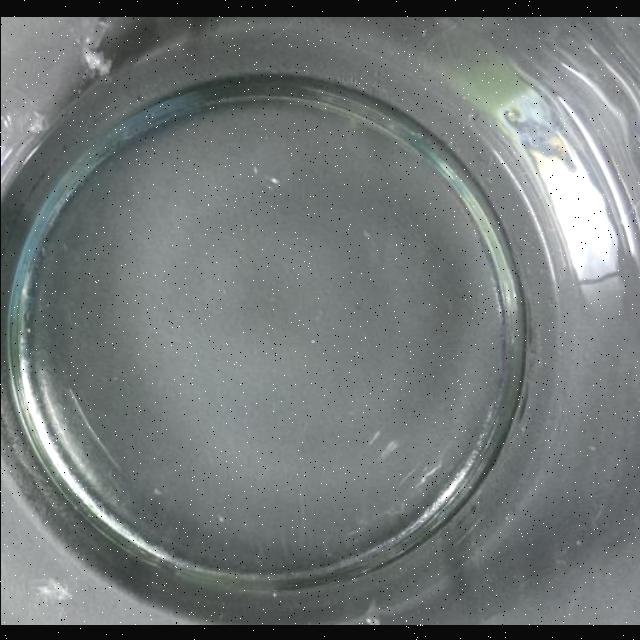Fibre: (80, 41, 110, 77), (362, 615, 378, 625)
microbeads: (36, 578, 72, 602)
